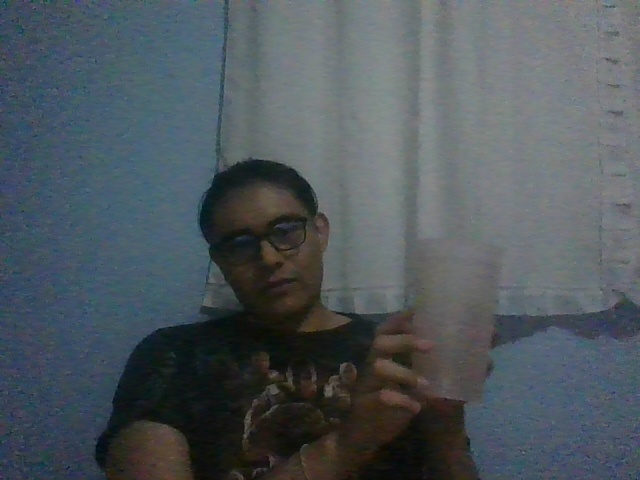vaso: (408, 236, 504, 405)
